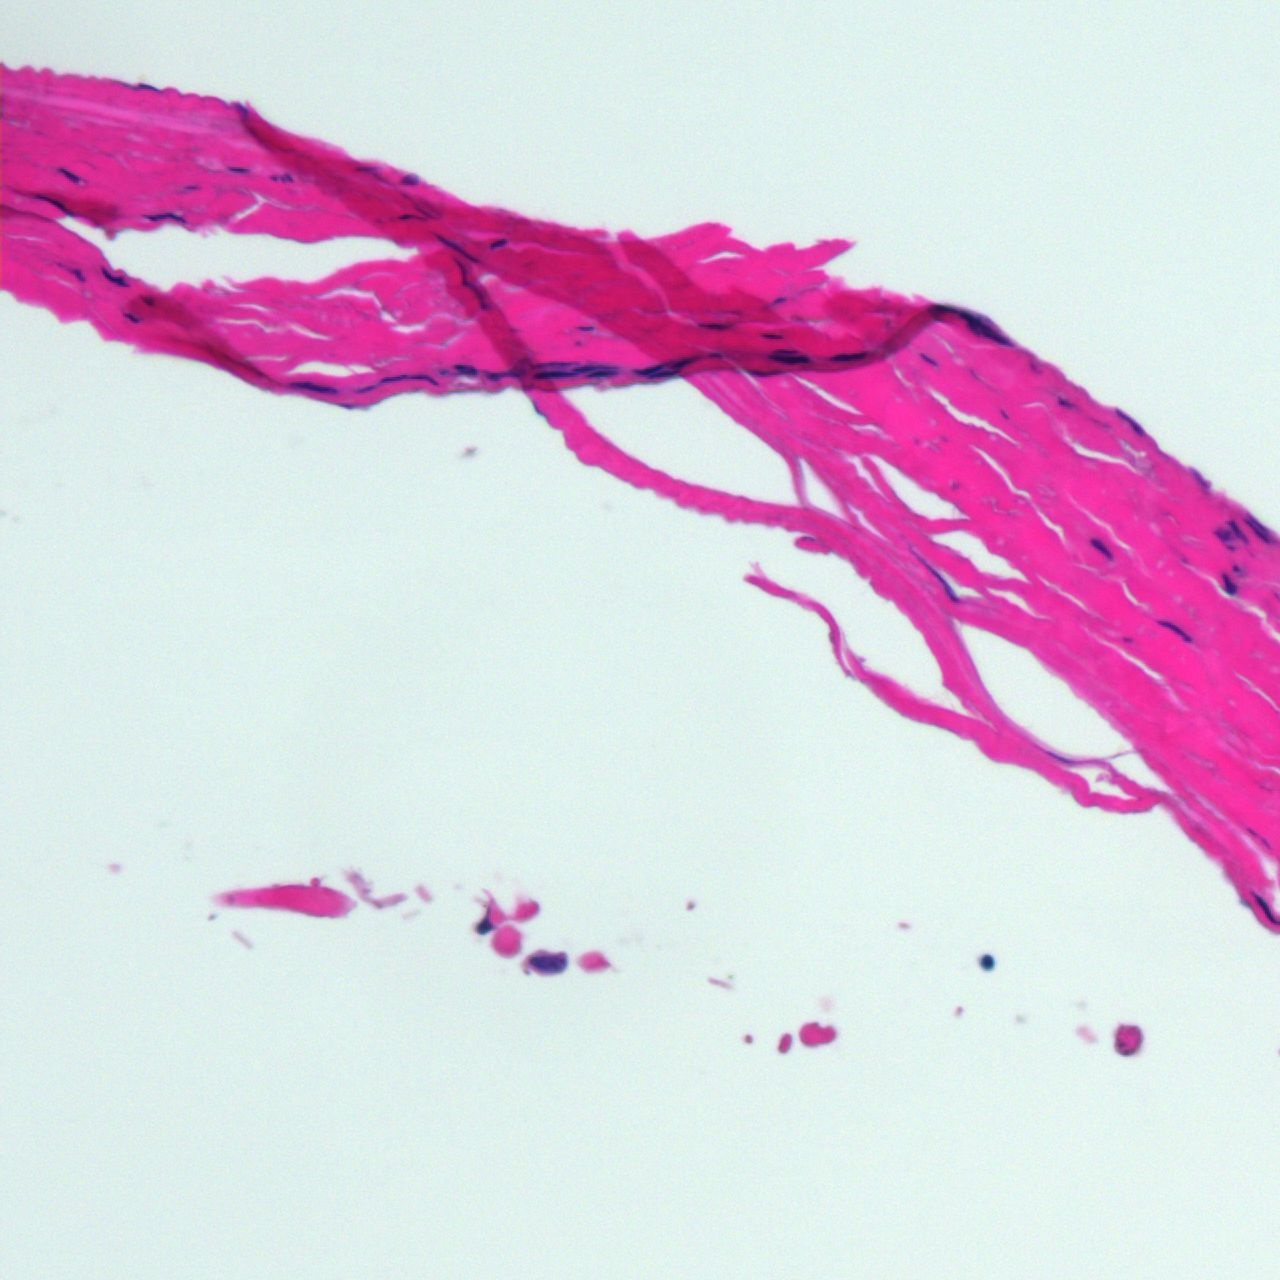dust: (472, 907, 495, 935), (977, 954, 996, 970)
nucleus-HE: (928, 298, 1017, 348), (911, 550, 962, 605), (444, 254, 493, 311), (432, 231, 480, 264), (1154, 614, 1194, 645), (32, 190, 77, 216), (1112, 405, 1146, 438), (97, 261, 131, 292), (286, 376, 337, 396), (1087, 534, 1116, 564), (1187, 464, 1214, 493), (1223, 517, 1250, 544), (379, 373, 438, 385), (54, 162, 83, 186), (1242, 518, 1269, 543), (1216, 570, 1240, 598), (668, 351, 696, 374), (767, 352, 811, 365), (351, 379, 381, 398), (1244, 512, 1269, 533), (632, 361, 664, 377), (1054, 392, 1077, 414), (918, 349, 939, 370), (143, 212, 186, 222), (486, 233, 508, 252), (828, 351, 867, 361), (695, 320, 732, 330), (454, 362, 477, 377), (533, 371, 576, 378), (398, 172, 419, 186), (268, 171, 292, 183), (532, 360, 572, 367), (1212, 528, 1231, 542), (745, 367, 778, 375), (123, 311, 144, 323), (760, 331, 785, 340), (587, 370, 618, 377), (136, 82, 160, 91), (72, 266, 86, 281), (227, 164, 249, 173), (484, 371, 503, 381), (140, 293, 155, 305), (769, 296, 787, 304), (575, 325, 595, 332), (397, 211, 412, 219), (181, 184, 200, 190), (999, 407, 1008, 418), (1231, 564, 1241, 573), (438, 367, 449, 375), (1225, 543, 1235, 551), (1122, 636, 1133, 643)
